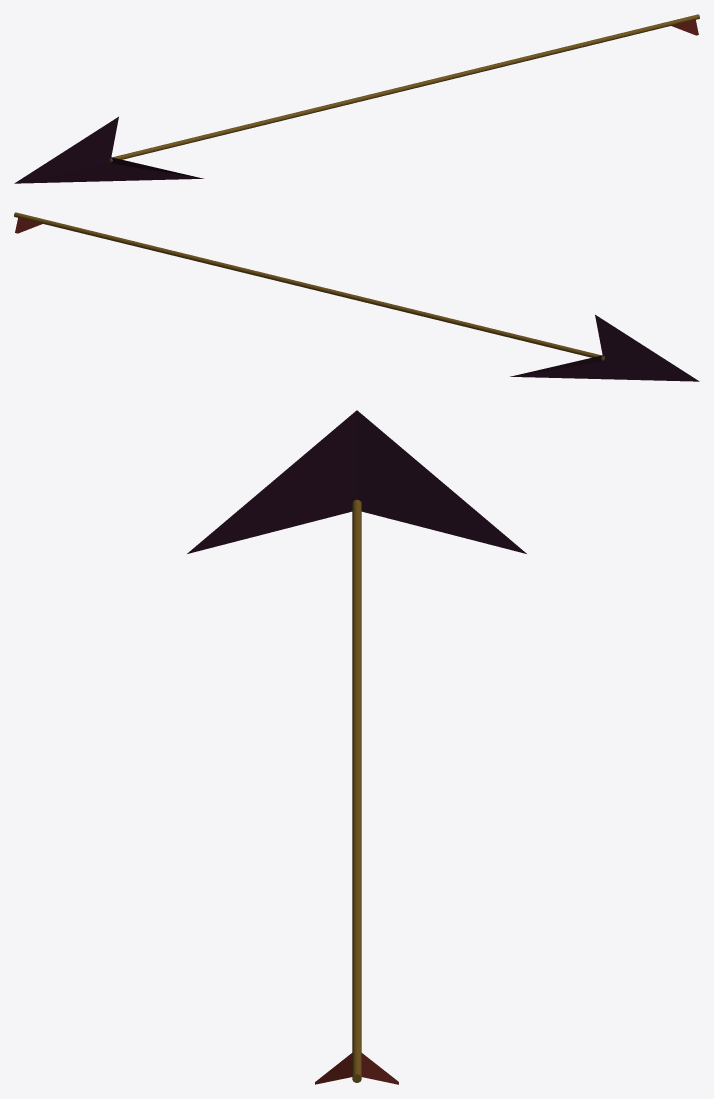
File: Arrow.gltf
The picture shows the model from 3 angles, top to bottom: view 1: azimuth 30°, elevation 25°; view 2: azimuth 150°, elevation 25°; view 3: azimuth 270°, elevation 25°; orthographic projection. The views are drawn at different scales.
Parts seen in each view (by area): view 1: Plane; view 2: Plane; view 3: Plane.
Part boxes in pixels (x1=…): Plane: x1=14, y1=14, x2=699, y2=183; Plane: x1=14, y1=212, x2=699, y2=381; Plane: x1=187, y1=410, x2=526, y2=1084.
Size of the model in its own units: 9.27 by 0.1471 by 2.
